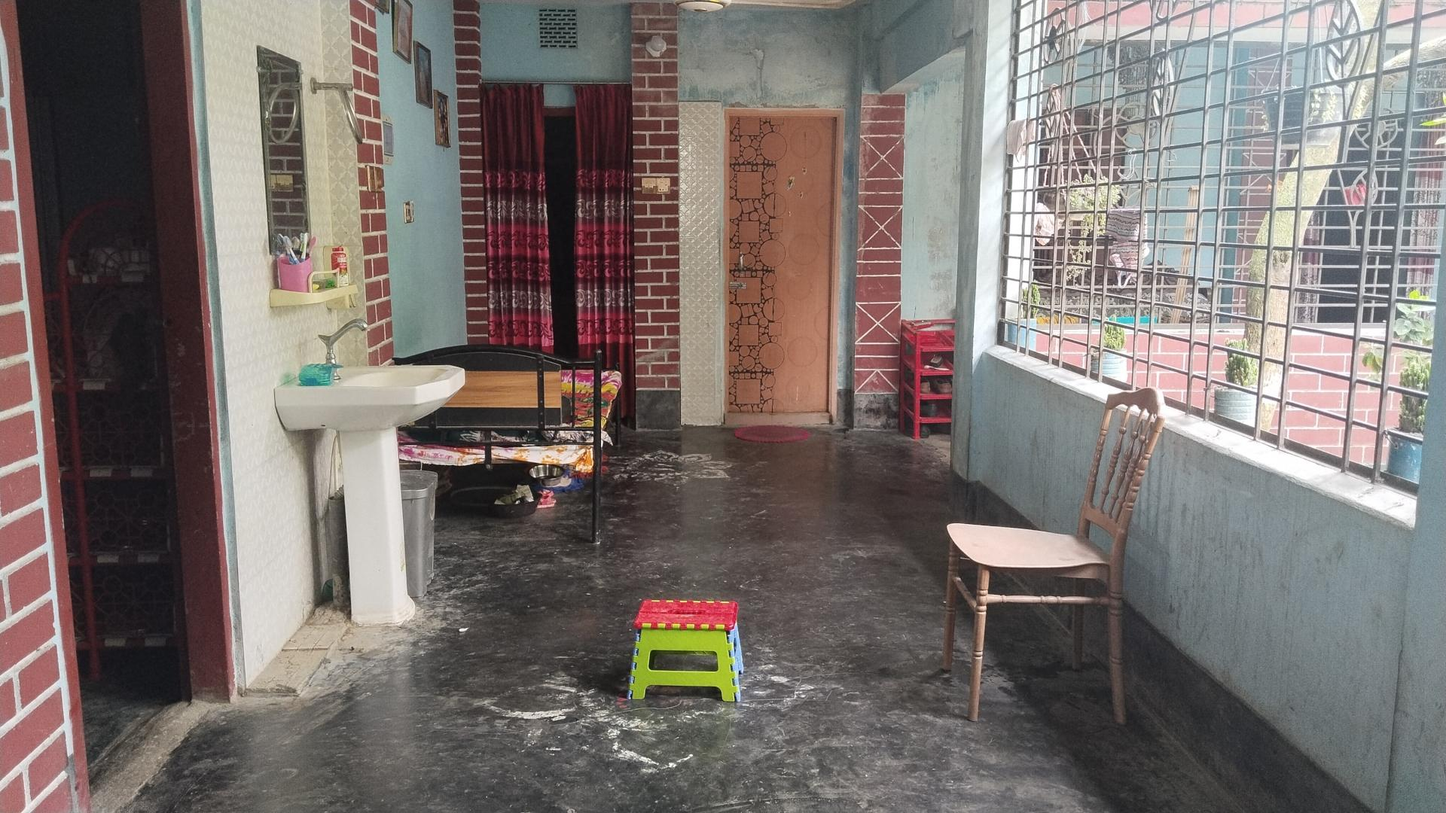Chair: (949, 381, 1166, 727)
Door: (716, 118, 833, 435)
Stool: (633, 591, 748, 704)
